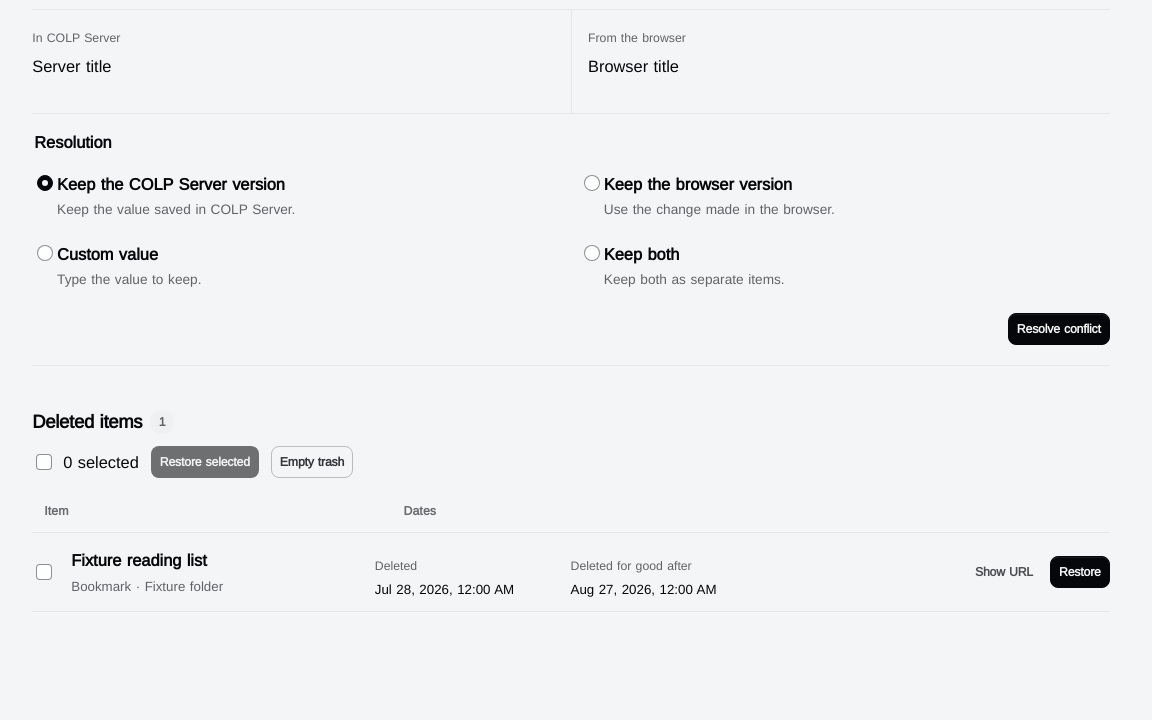
it: KNS-11 Sync Center trash › marks already-restored 404 as done after refresh and does not look like a browser delete
The image size is (1152, 720).
(page scrolled)
Click the button "Restore" at (1080, 572), box [1050,556,1110,588]
(page scrolled)
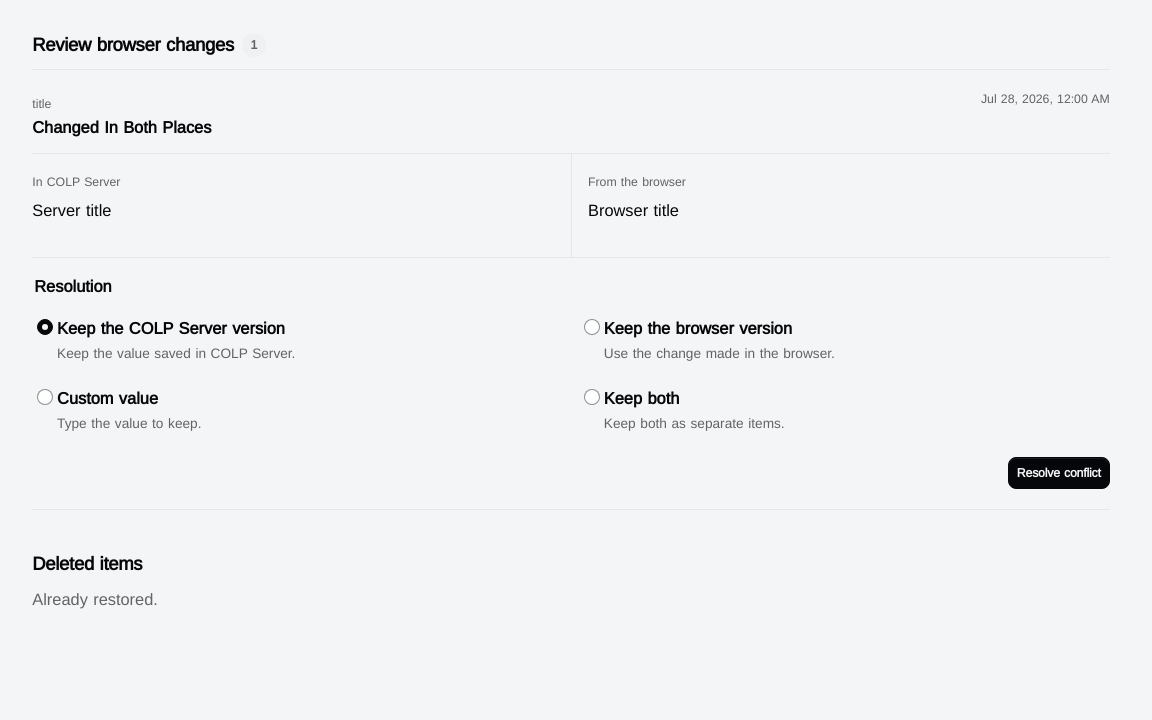
Check: the text "Already restored." is shown, box [32,589,158,609]
